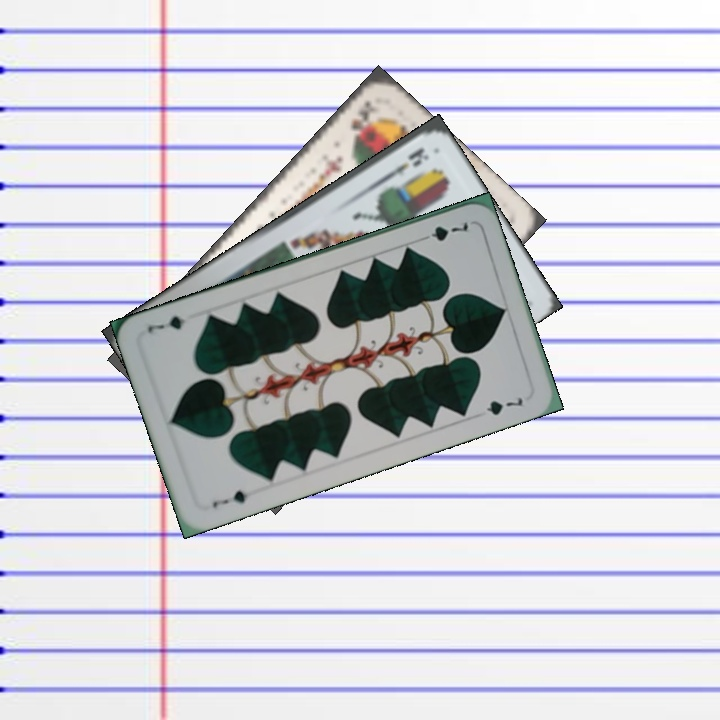EK: (379, 143, 431, 184)
G7: (415, 218, 471, 244), (208, 486, 250, 511)
SK: (346, 95, 380, 143)
